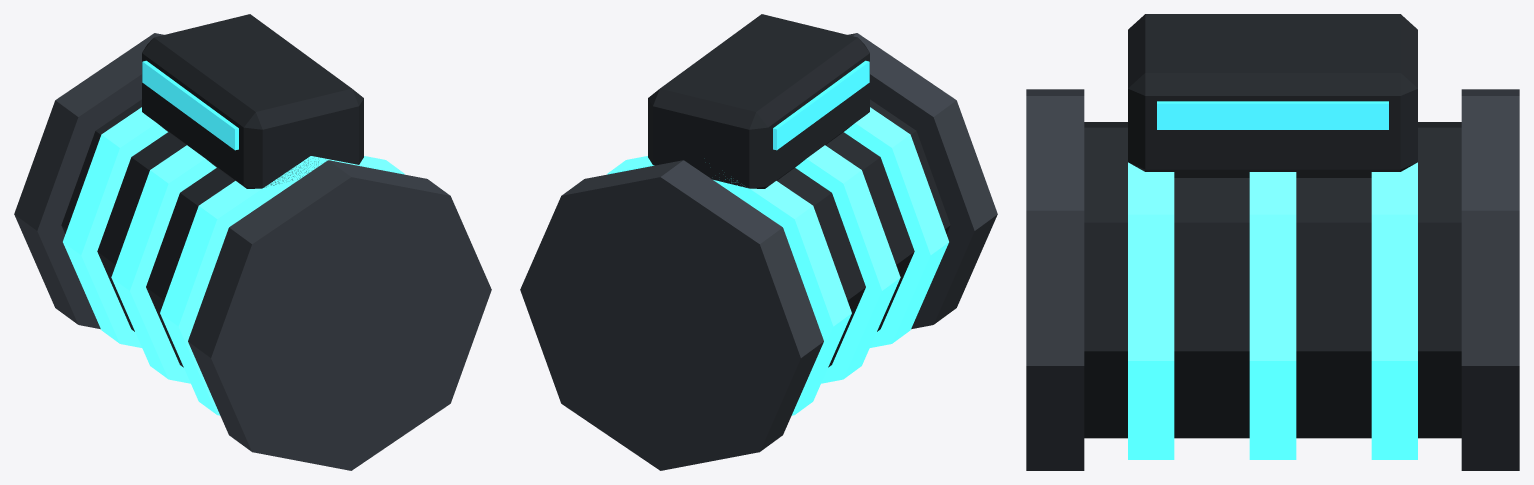
File: mod_emp_coil.glb
The picture shows the model from 3 angles, left to right: view 1: azimuth 30°, elevation 25°; view 2: azimuth 150°, elevation 25°; view 3: azimuth 270°, elevation 25°; orthographic projection. The views are drawn at different scales.
Parts seen in each view (by area): view 1: emp_coil; view 2: emp_coil; view 3: emp_coil.
Part boxes in pixels (x1,y1,x2,y2): emp_coil: [14, 14, 491, 470]; emp_coil: [520, 14, 997, 470]; emp_coil: [1026, 14, 1519, 470].
Bounding box in the file's own units: 0.14 × 0.16 × 0.17.
